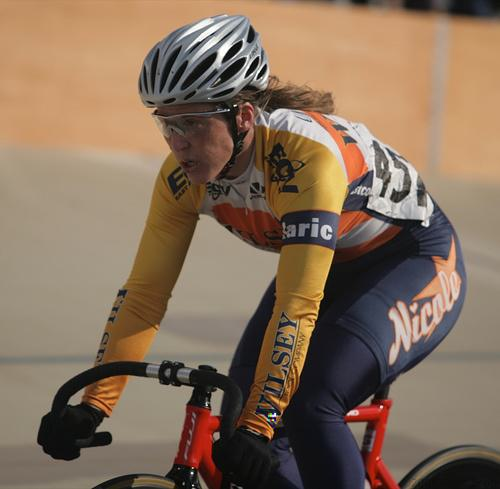car: (45, 346, 500, 489)
person: (48, 13, 472, 483)
